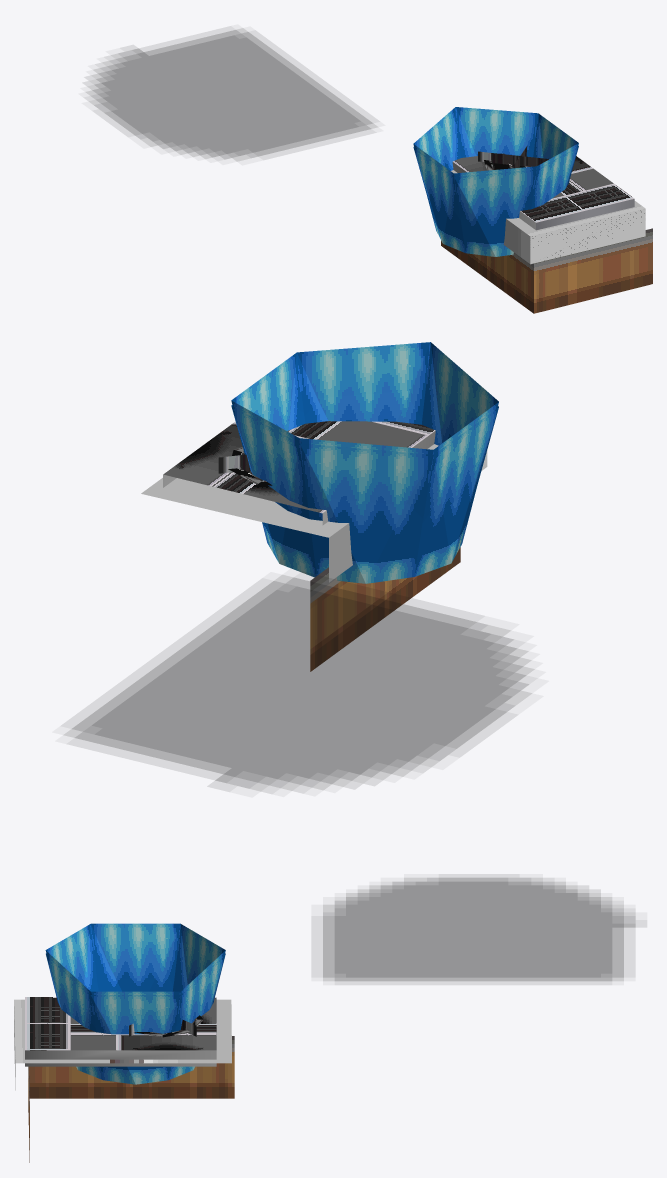
3 renders of one model, top to bottom at view 1: azimuth 30°, elevation 25°; view 2: azimuth 150°, elevation 25°; view 3: azimuth 270°, elevation 25°, orthographic. The views are drawn at different scales.
Parts seen in each view (by area): view 1: uma_sys_konro; view 2: uma_sys_konro; view 3: uma_sys_konro.
Part boxes in pixels (x1=…): uma_sys_konro: x1=86, y1=28, x2=652, y2=313; uma_sys_konro: x1=64, y1=342, x2=533, y2=790; uma_sys_konro: x1=14, y1=877, x2=635, y2=1162.
Size of the model in its own units: 2.69 by 0.9988 by 3.75.
7 materials, 7 textured.
